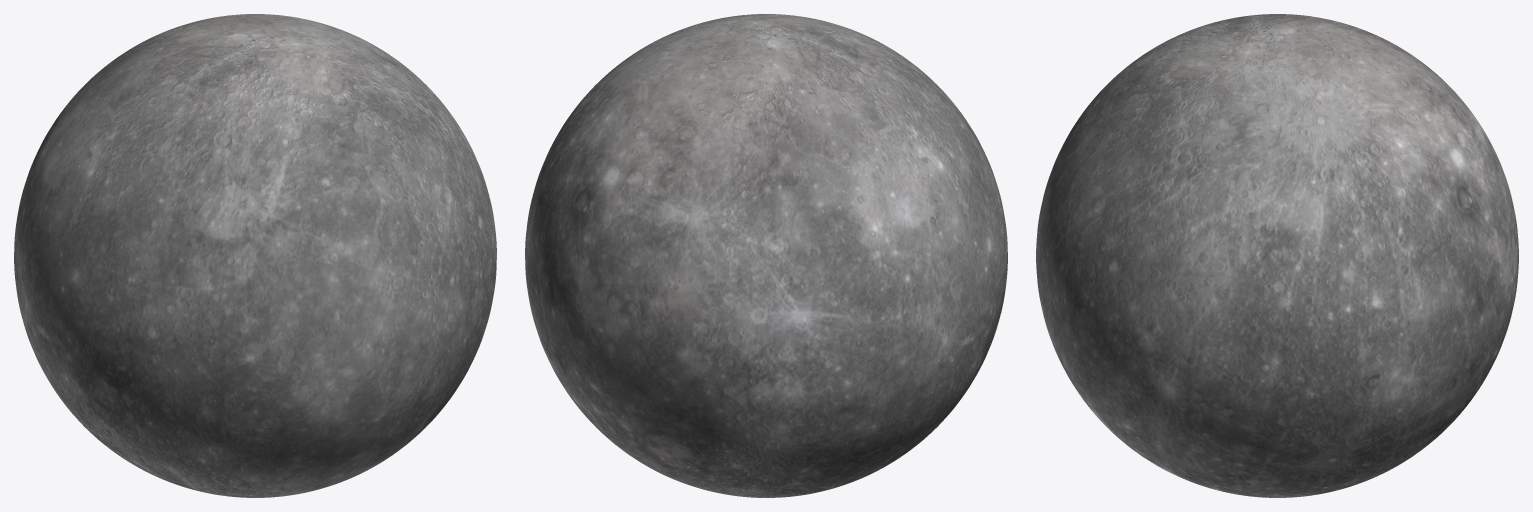
The model's file is mercure.glb.
The picture shows the model from 3 angles, left to right: view 1: azimuth 30°, elevation 25°; view 2: azimuth 150°, elevation 25°; view 3: azimuth 270°, elevation 25°; orthographic projection.
Visible parts, largest first — view 1: Mercury_Sphere.009; view 2: Mercury_Sphere.009; view 3: Mercury_Sphere.009.
Boxes of the visible parts, box(x1,y1,x2,y2) form: Mercury_Sphere.009: box(14, 14, 496, 497); Mercury_Sphere.009: box(525, 14, 1007, 497); Mercury_Sphere.009: box(1036, 14, 1518, 497).
Size of the model in its own units: 1.11 by 1.11 by 1.11.
Materials: 1 (1 with a texture image).
